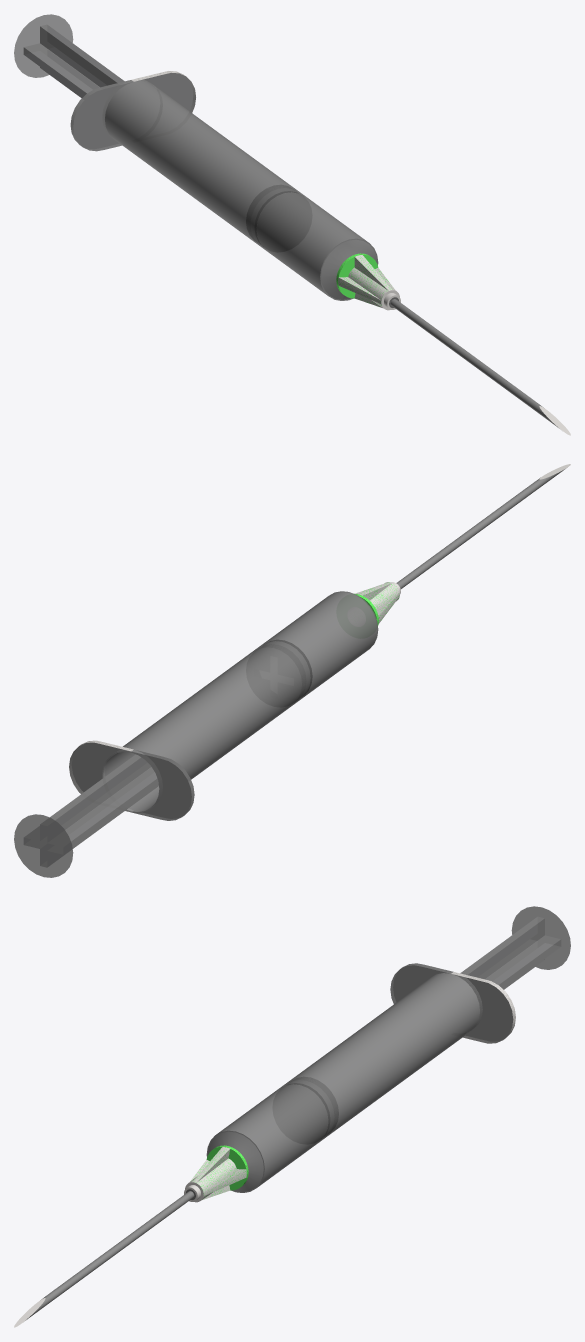
The model's file is syringe.dae.
3 renders of one model, top to bottom at view 1: azimuth 30°, elevation 25°; view 2: azimuth 150°, elevation 25°; view 3: azimuth 330°, elevation 25°, orthographic.
Parts seen in each view (by area): view 1: skp5D4C (×8); view 2: skp5D4C (×8); view 3: skp5D4C (×8).
Part boxes in pixels (left/top/right/bottom): skp5D4C (×8): left=14, top=14, right=531, bottom=404; skp5D4C (×8): left=14, top=486, right=533, bottom=877; skp5D4C (×8): left=53, top=906, right=570, bottom=1296.
Bounding box in the file's own units: 124 × 921 × 59.83.
